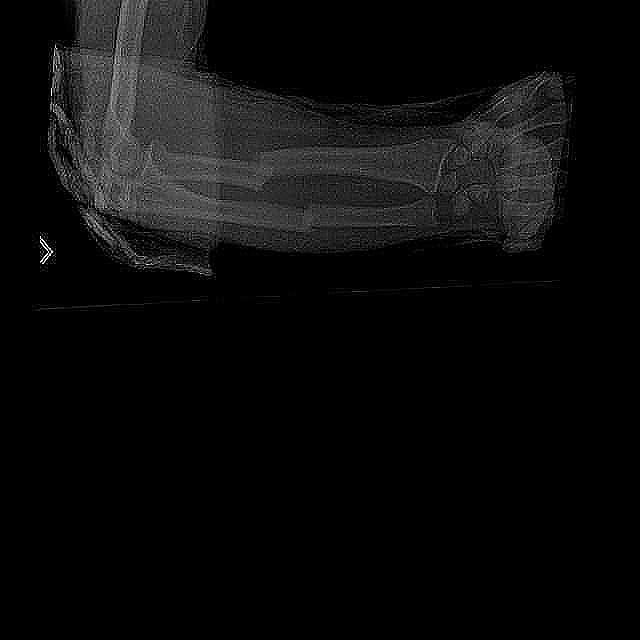bone: (237, 144, 286, 197), (281, 196, 340, 239)
